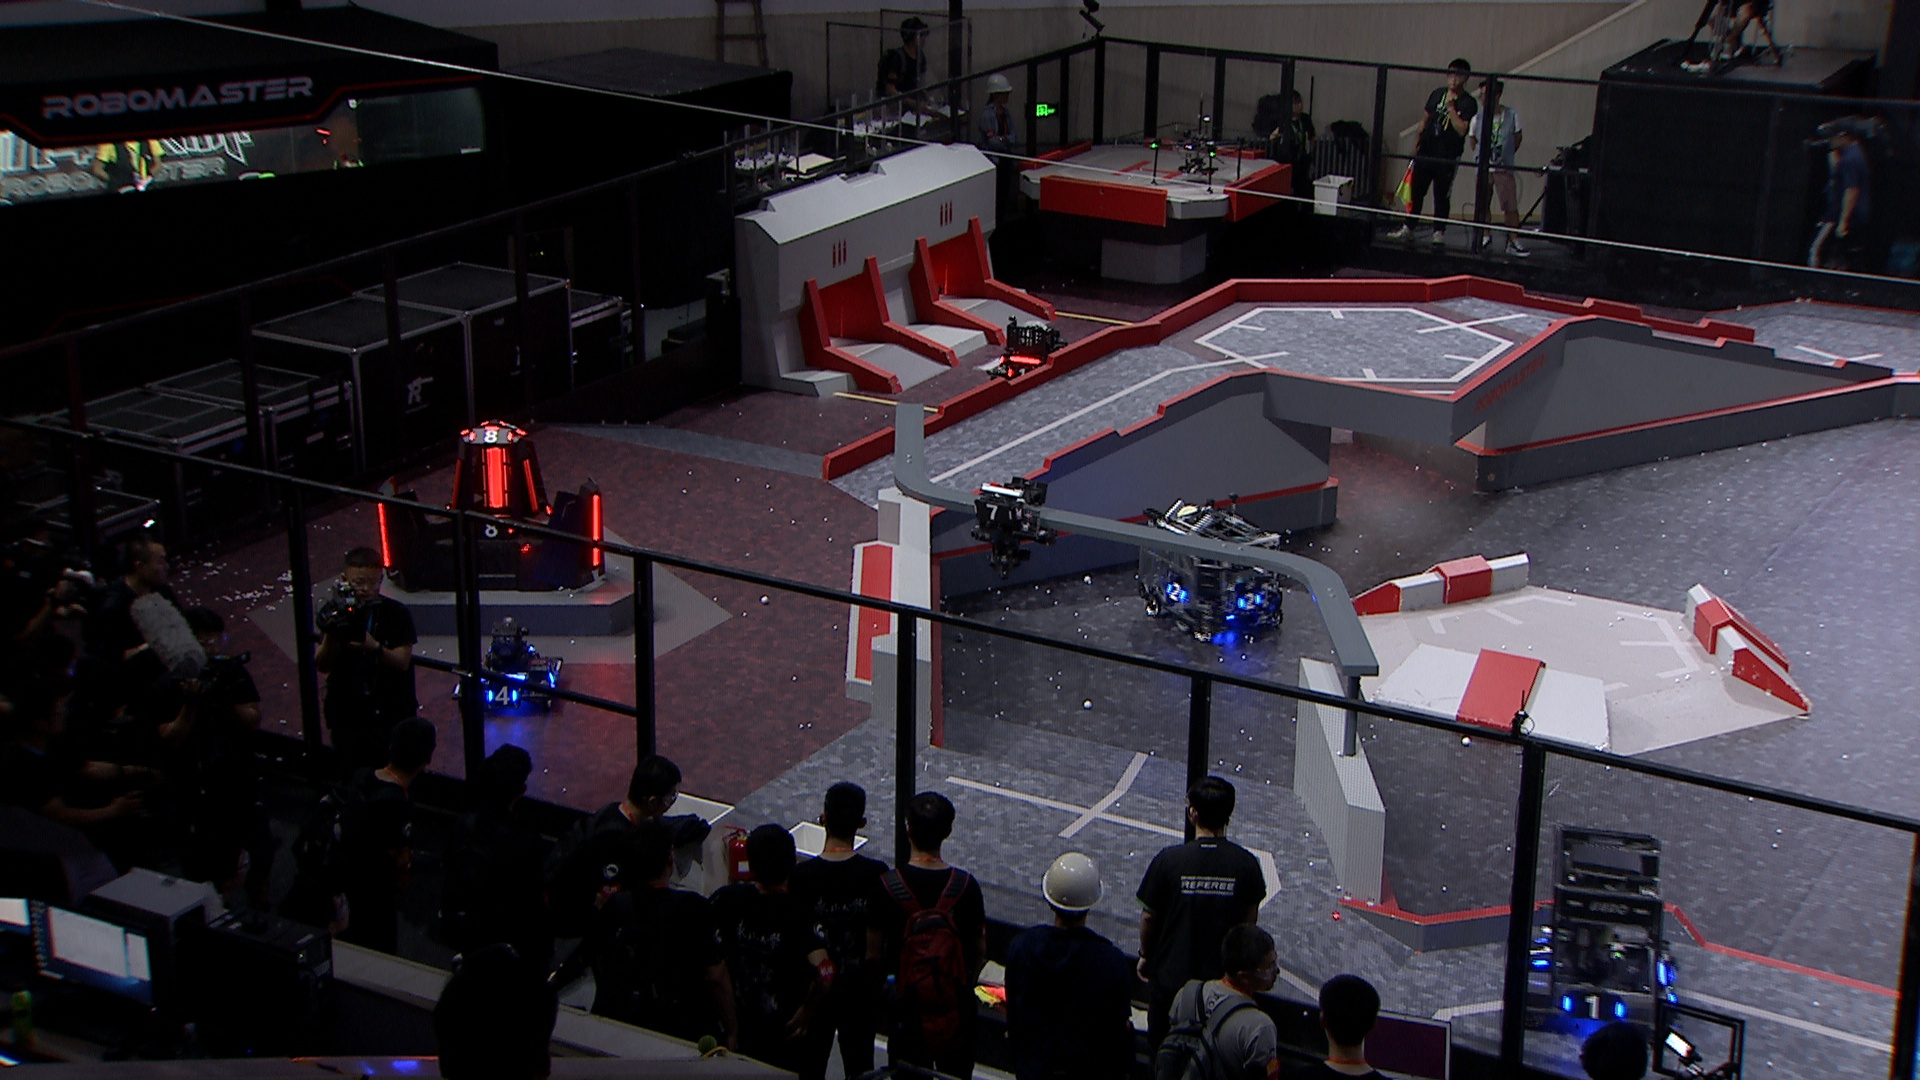armor: (1557, 992, 1629, 1022), (481, 444, 506, 510), (375, 500, 396, 572), (588, 491, 605, 571), (520, 456, 542, 516), (447, 458, 465, 513), (971, 500, 1015, 522), (1527, 934, 1553, 968), (465, 429, 518, 444), (484, 684, 520, 707), (1234, 589, 1266, 613), (481, 522, 518, 542), (1163, 582, 1187, 603), (1004, 365, 1029, 380)
base: (371, 422, 608, 595)
car: (1513, 823, 1685, 1036), (1135, 501, 1287, 645), (454, 618, 564, 713), (989, 315, 1083, 396)
watcher: (968, 473, 1051, 579)
